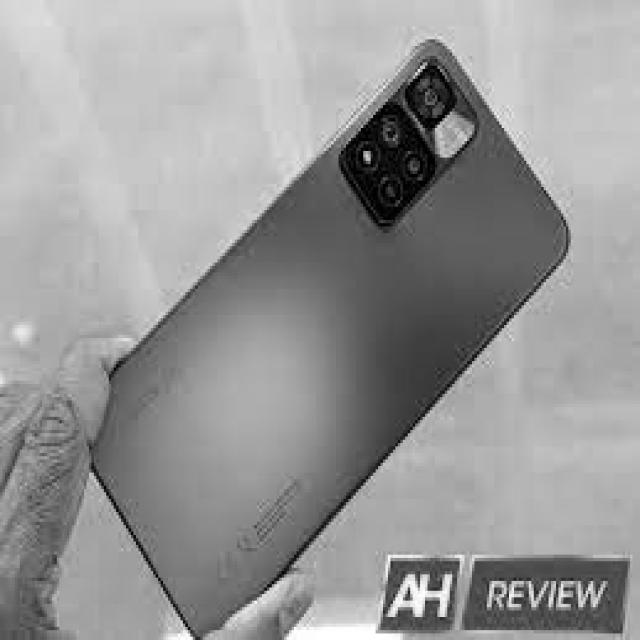No gun_phone: (89, 41, 569, 637)
